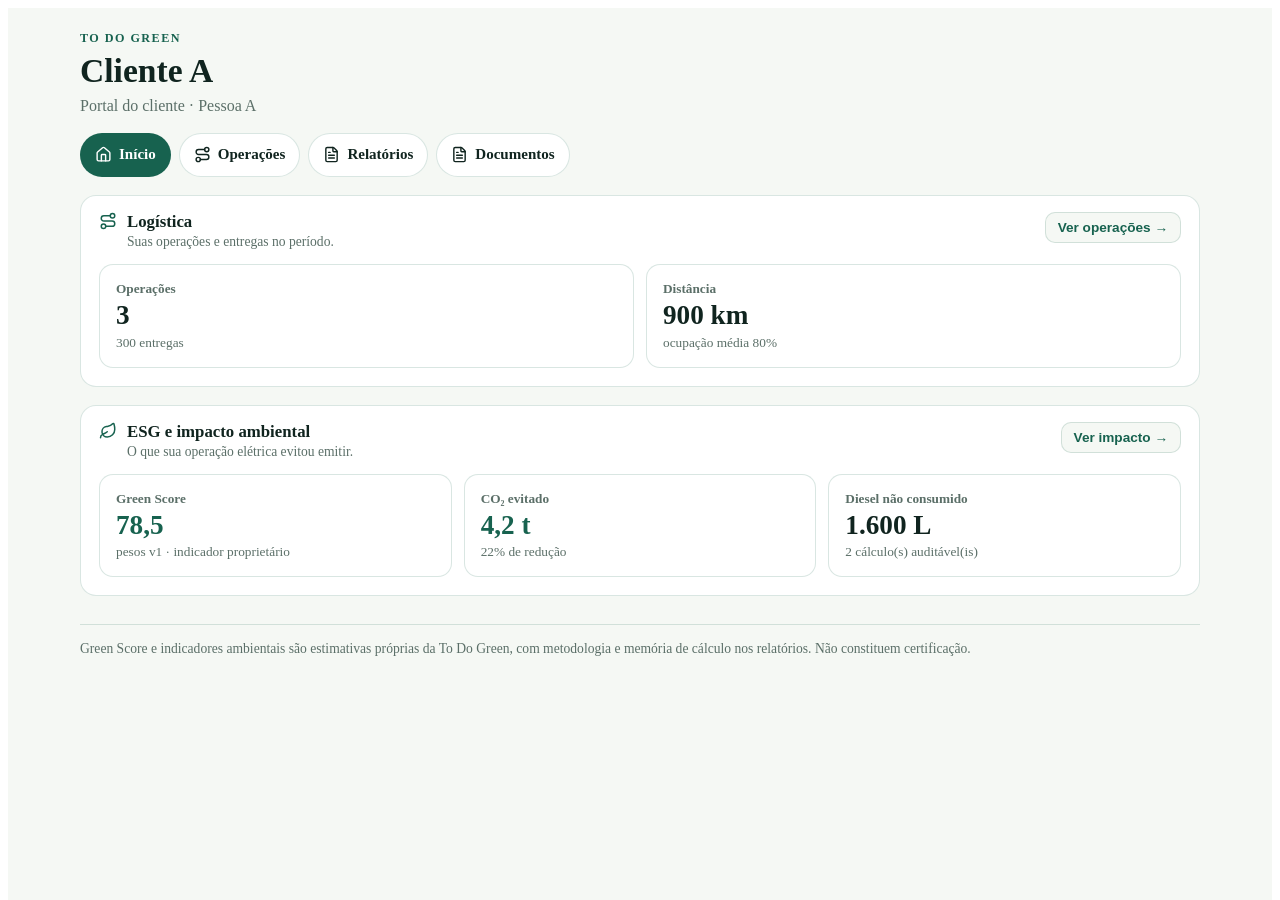
Test: erro de ação não derruba o portal › falha ao listar documentos vira aviso, não tela de bloqueio
Check: the heading "Cliente A" is shown, box [80,52,213,89]
Click the button "Documentos": x=503, y=155 [436,133,570,177]
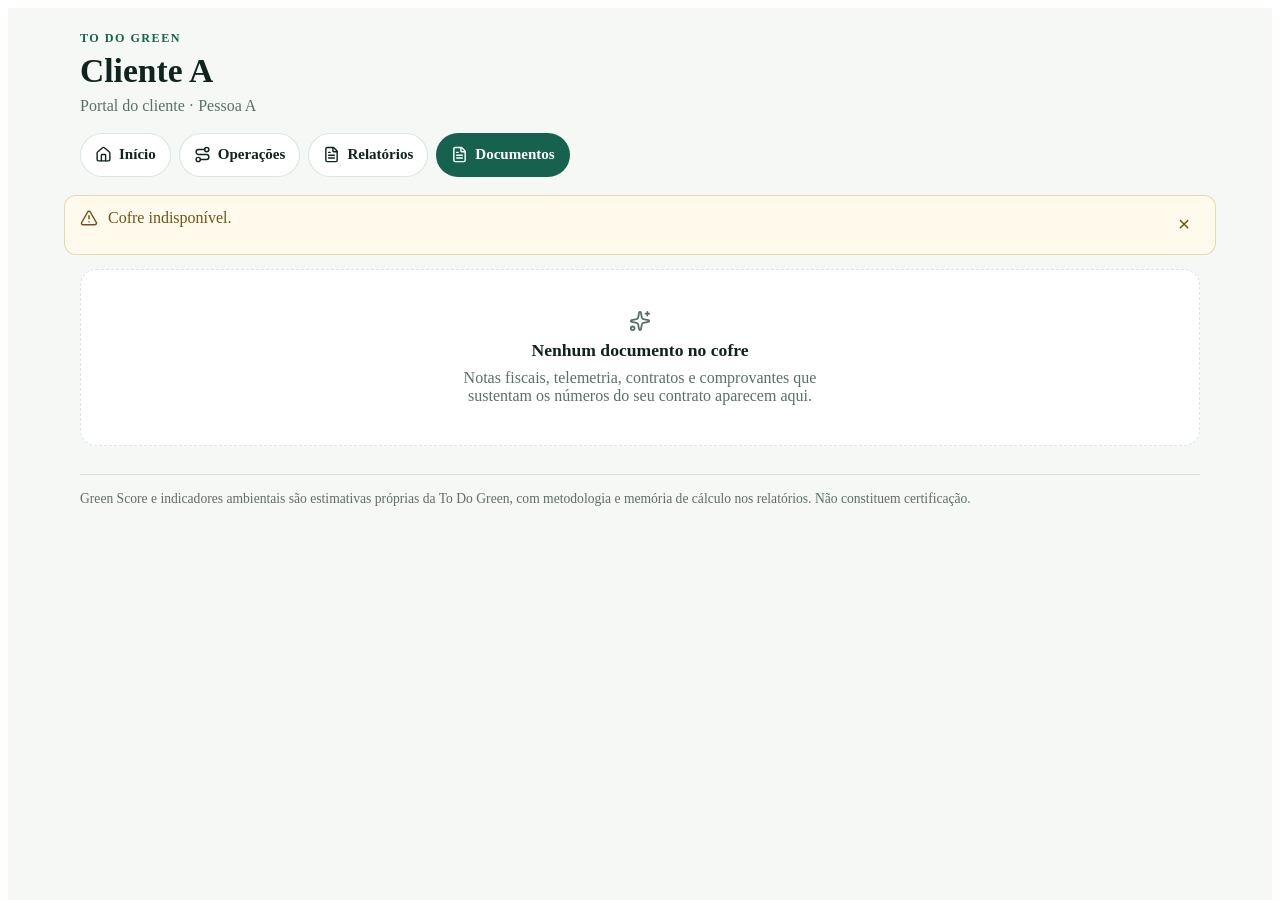
Check: the heading "Cliente A" is shown, box [80,52,213,89]
Check: the message "Cofre indisponível. ×" is shown, box [64,195,1216,255]
